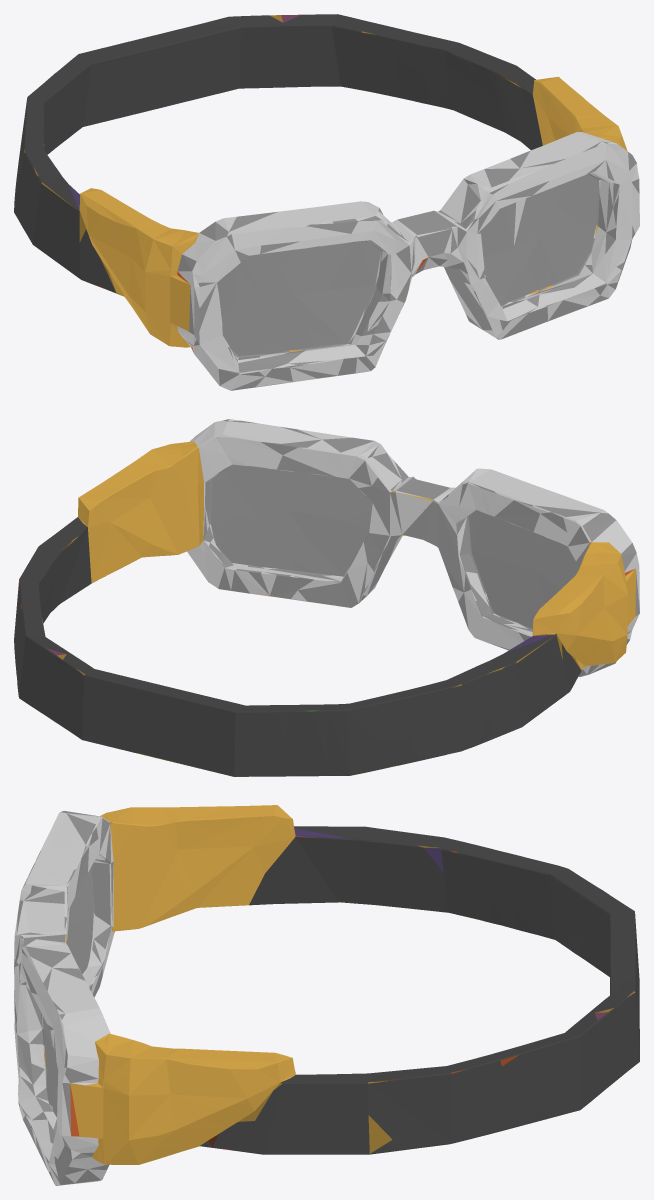
File: null_goggles.glb
3 renders of one model, top to bottom at view 1: azimuth 30°, elevation 25°; view 2: azimuth 150°, elevation 25°; view 3: azimuth 270°, elevation 25°, orthographic. The views are drawn at different scales.
Parts seen in each view (by area): view 1: node_0; view 2: node_0; view 3: node_0.
Boxes of the visible parts, <box> form: node_0: <box>14,14,639,390</box>; node_0: <box>14,419,639,776</box>; node_0: <box>14,805,639,1185</box>.
Bounding box in the file's own units: 0.999 × 0.3028 × 1.
